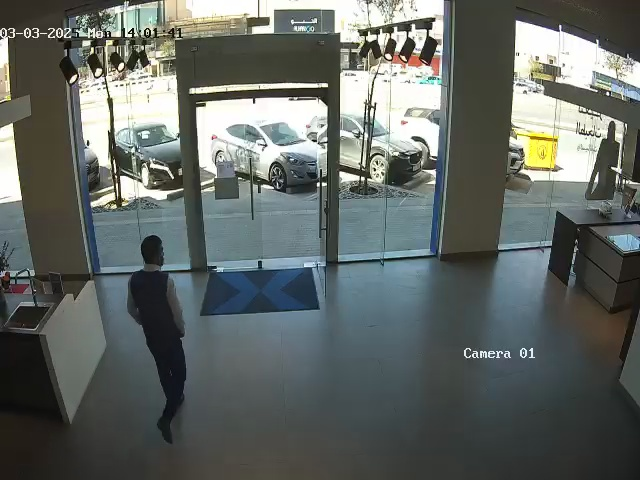employee: (126, 234, 188, 444)
